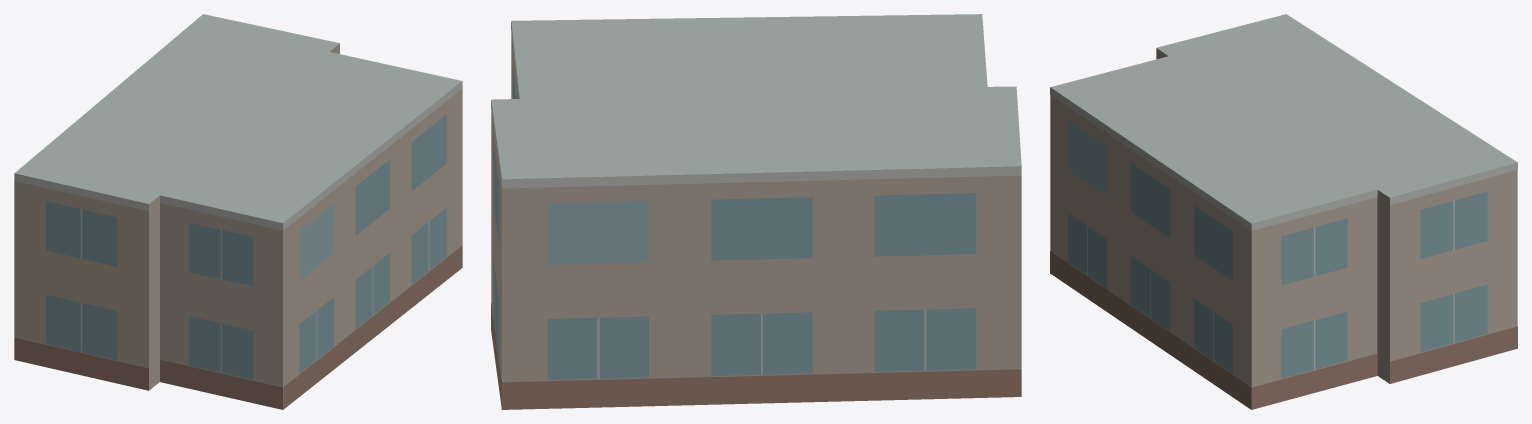
The model's file is survey-upis-32692877.glb.
The picture shows the model from 3 angles, left to right: view 1: azimuth 30°, elevation 25°; view 2: azimuth 150°, elevation 25°; view 3: azimuth 270°, elevation 25°; orthographic projection. The views are drawn at different scales.
Parts seen in each view (by area): view 1: survey-upis-32692877.tmp; view 2: survey-upis-32692877.tmp; view 3: survey-upis-32692877.tmp.
Part boxes in pixels (box(x1,y1,x2,y2)): survey-upis-32692877.tmp: box(14, 14, 462, 409); survey-upis-32692877.tmp: box(491, 14, 1021, 409); survey-upis-32692877.tmp: box(1050, 14, 1517, 409).
Size of the model in its own units: 14.74 by 6.1 by 13.89.
